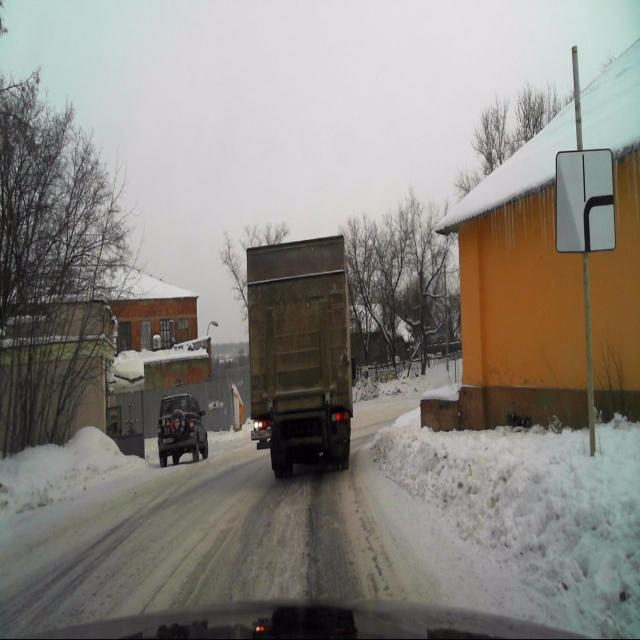road sign: (556, 150, 616, 252), (583, 252, 596, 453)
